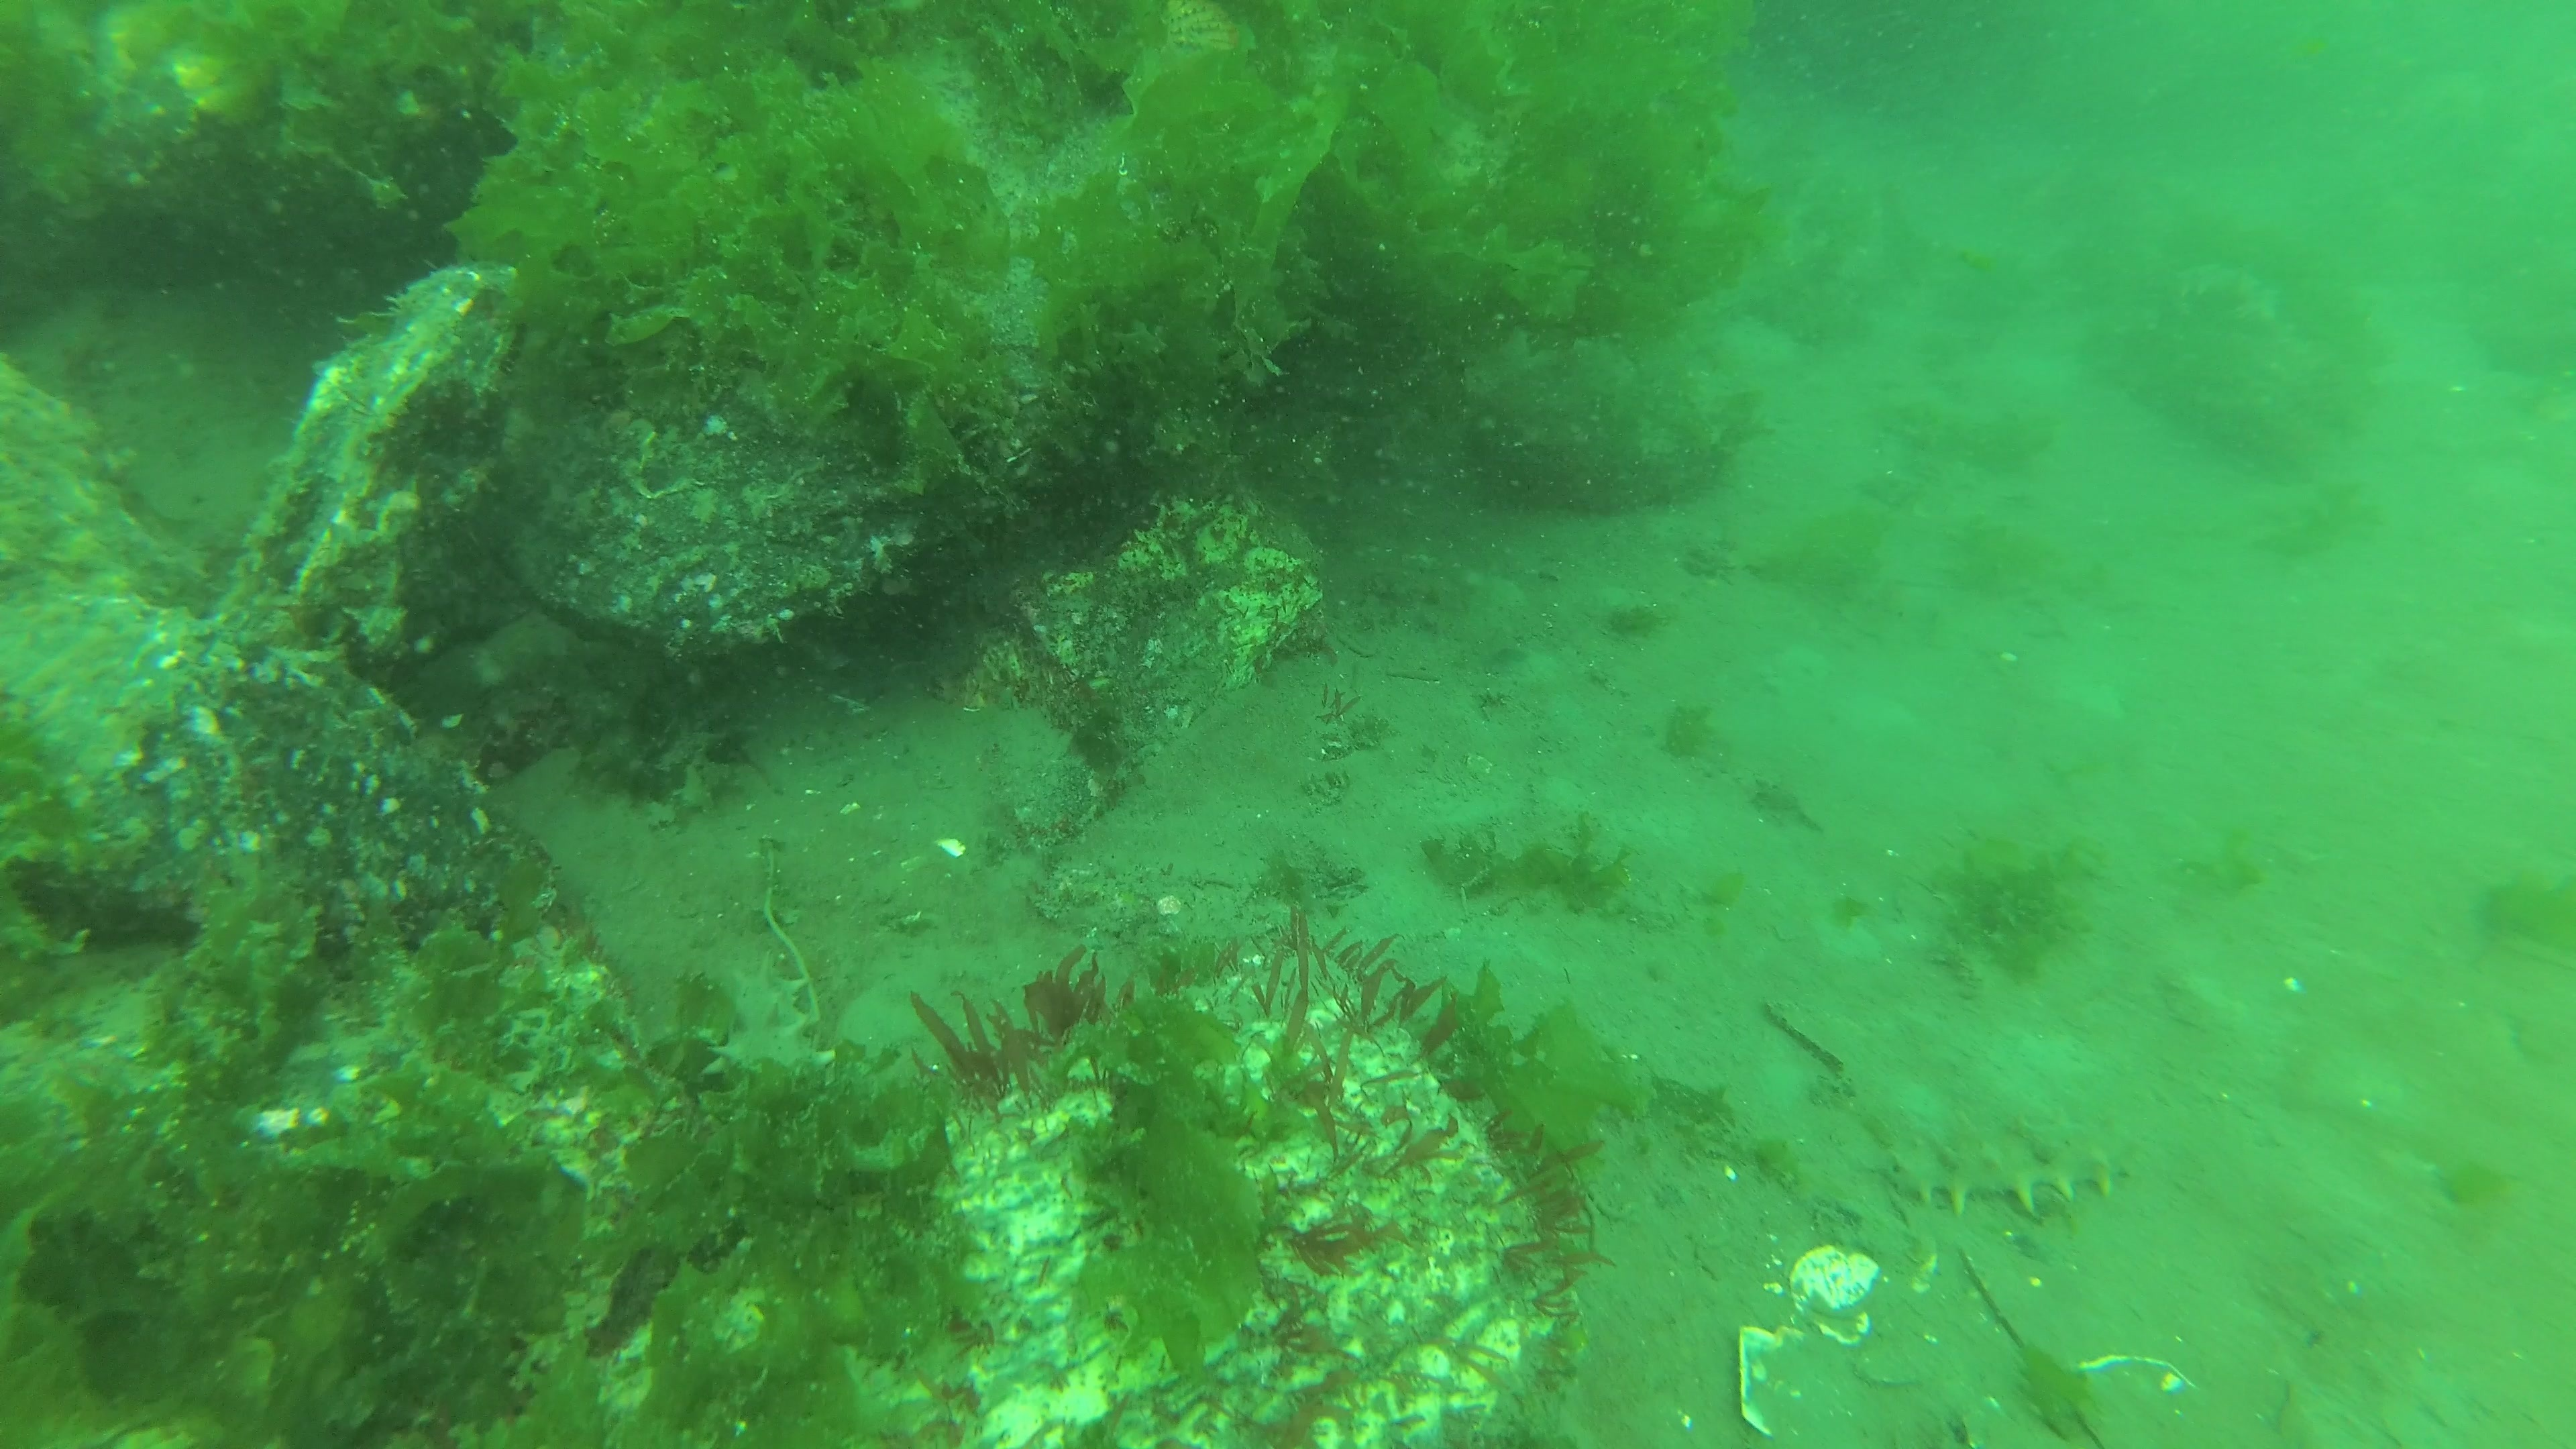holothurian: (1890, 1129, 2118, 1215), (699, 945, 839, 1086)
scallop: (1790, 1246, 1882, 1346), (1159, 0, 1256, 64)
